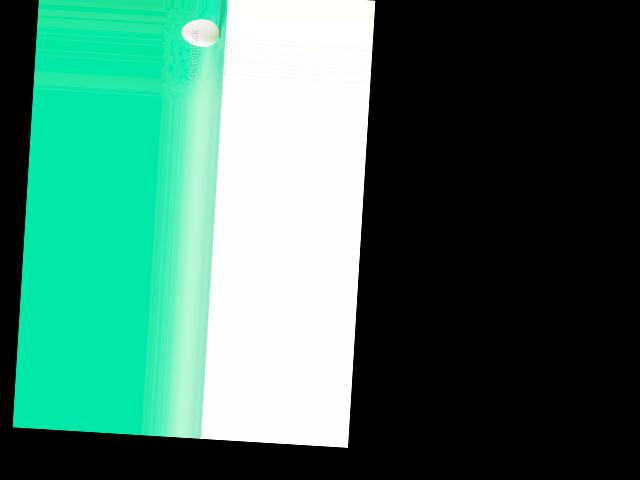egg: (181, 17, 221, 47)
